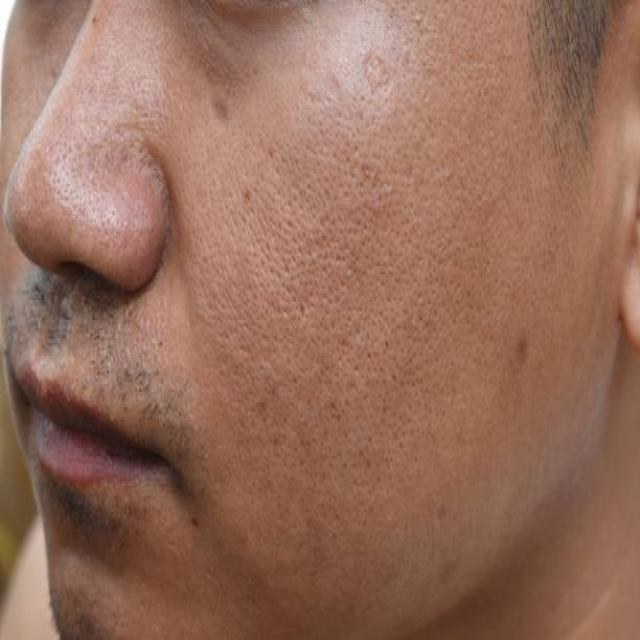Dry-Skin: (68, 99, 239, 310), (413, 207, 594, 382), (158, 368, 273, 579), (301, 356, 435, 522), (345, 32, 440, 170), (233, 120, 312, 280)
